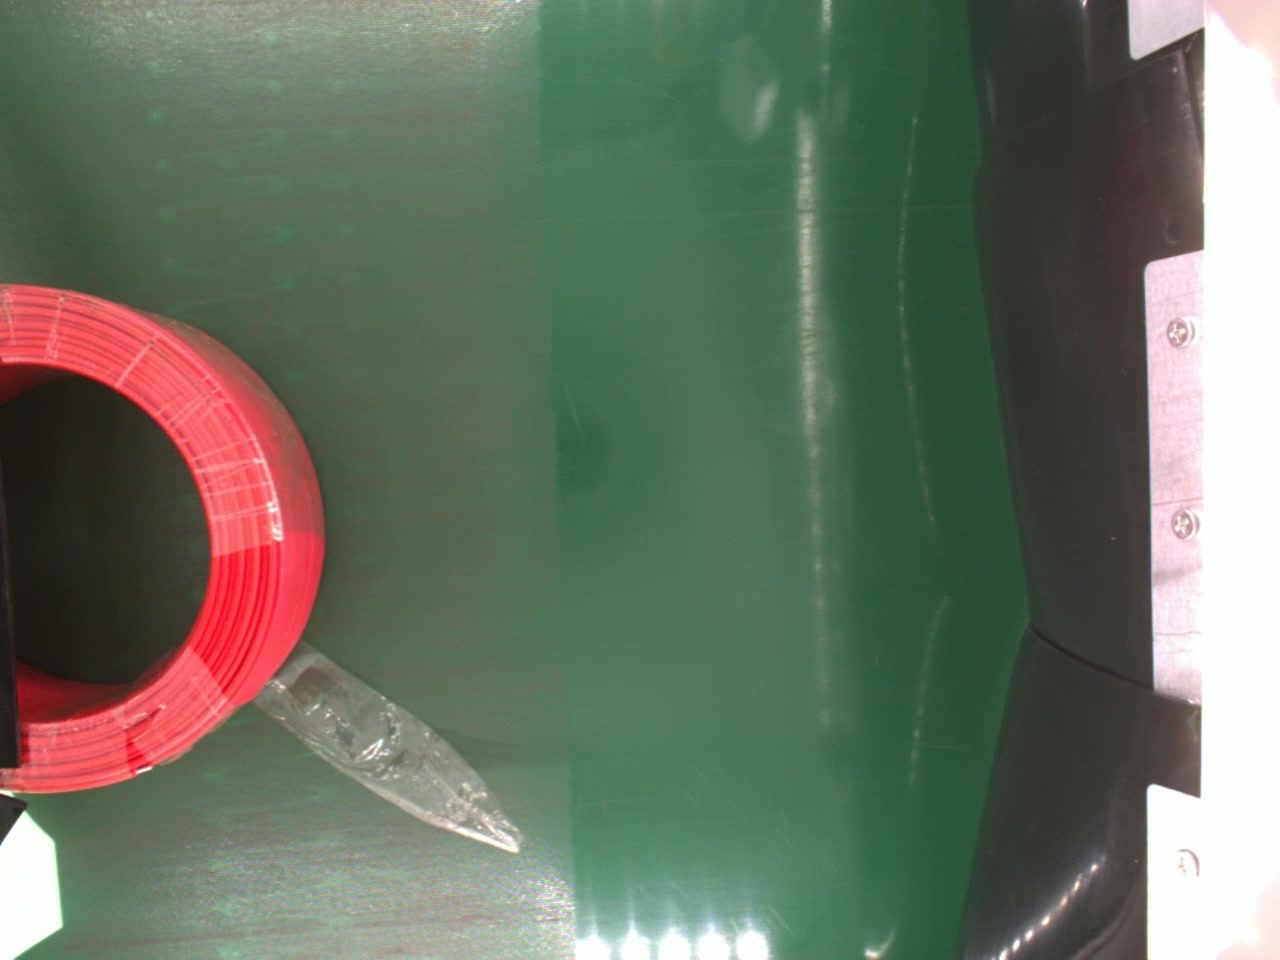red: (0, 278, 330, 796)
